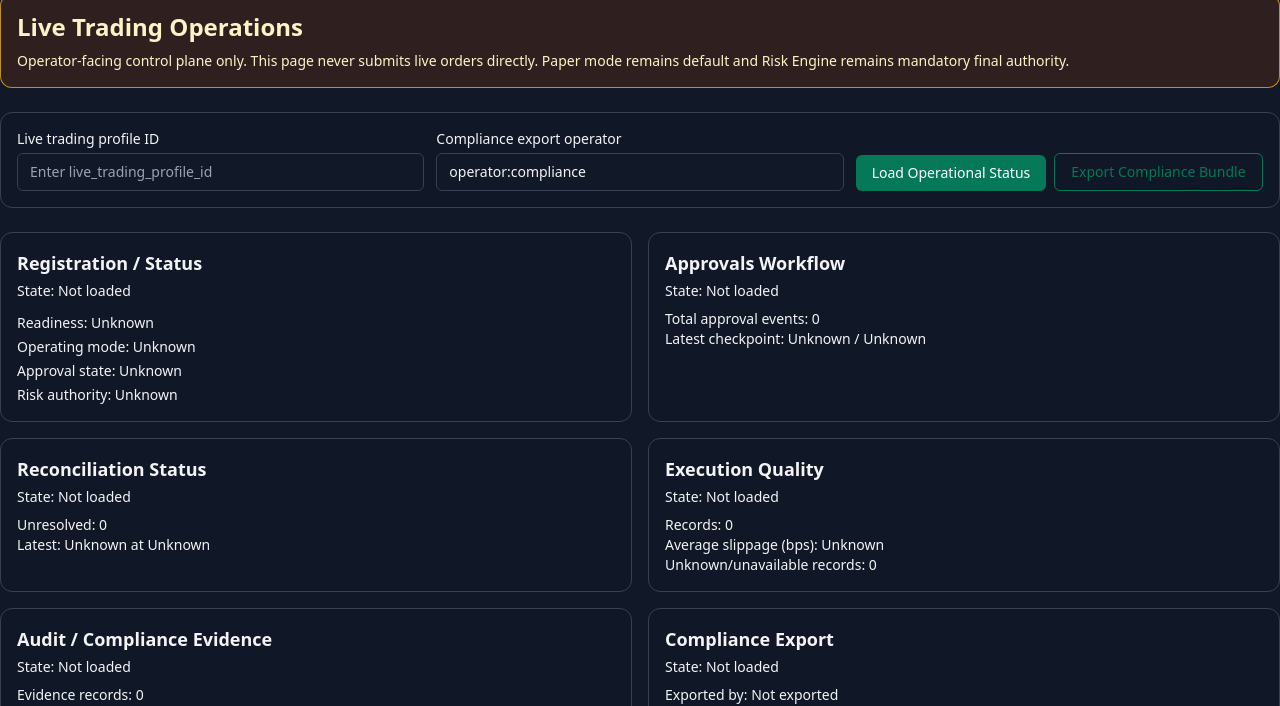
LiveTradingPage › loads live operational read surfaces and shows fail-visible state labels
Type "profile-1" into the field with placeholder "Enter live_trading_profile_id" at point(221, 172), box [17, 153, 424, 191]
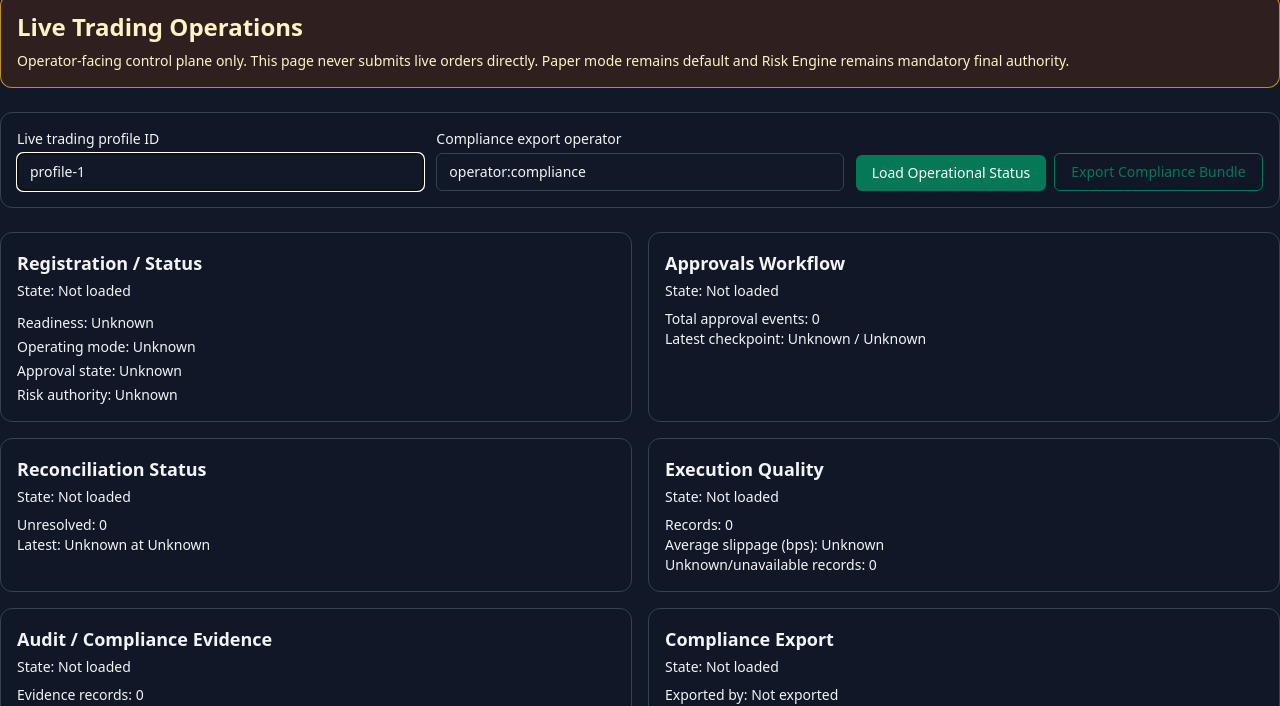
Click the button "Load Operational Status" at point(951, 173), box [856, 155, 1046, 191]
(page scrolled)
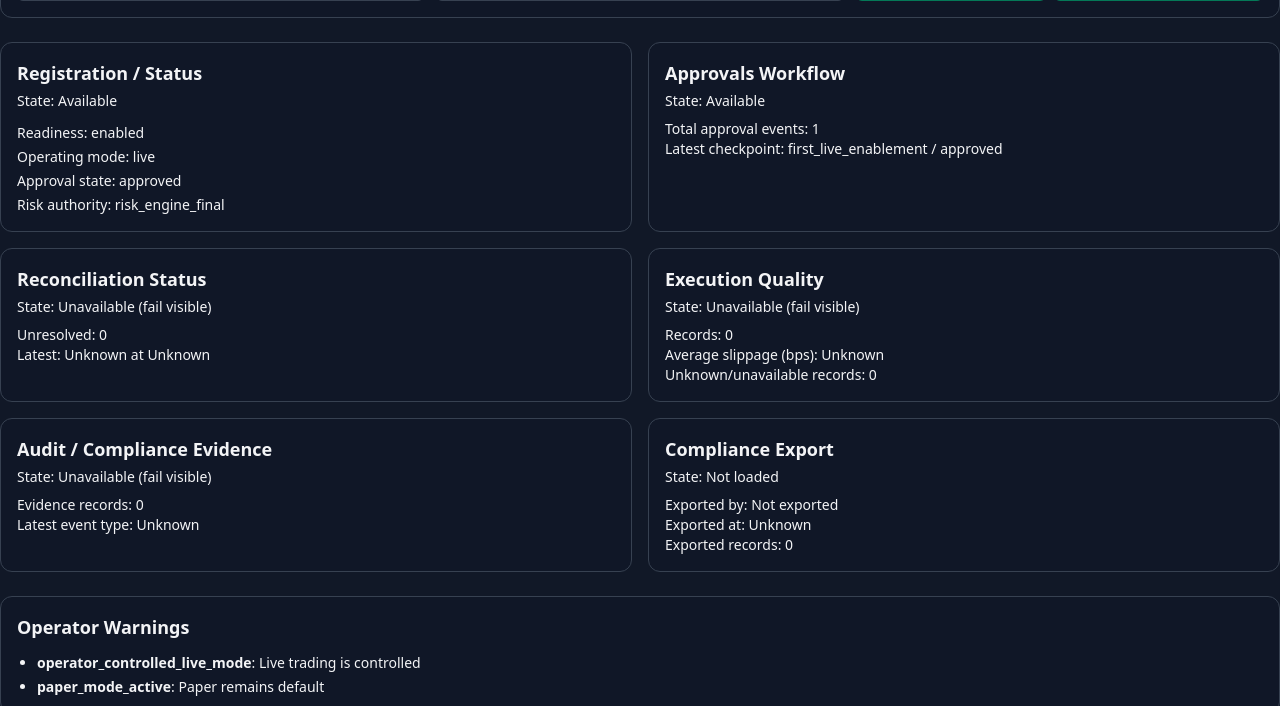
Expected: the heading "Registration / Status" is shown, [17, 61, 202, 85]
Result: the text "State: Unavailable (fail visible)" below "Reconciliation Status" is shown at [58, 297, 212, 316]
Result: the text "operator_controlled_live_mode" is shown at [37, 653, 252, 672]
